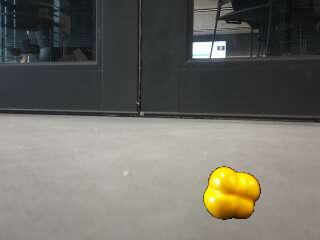Capsicum: (202, 166, 262, 221)
